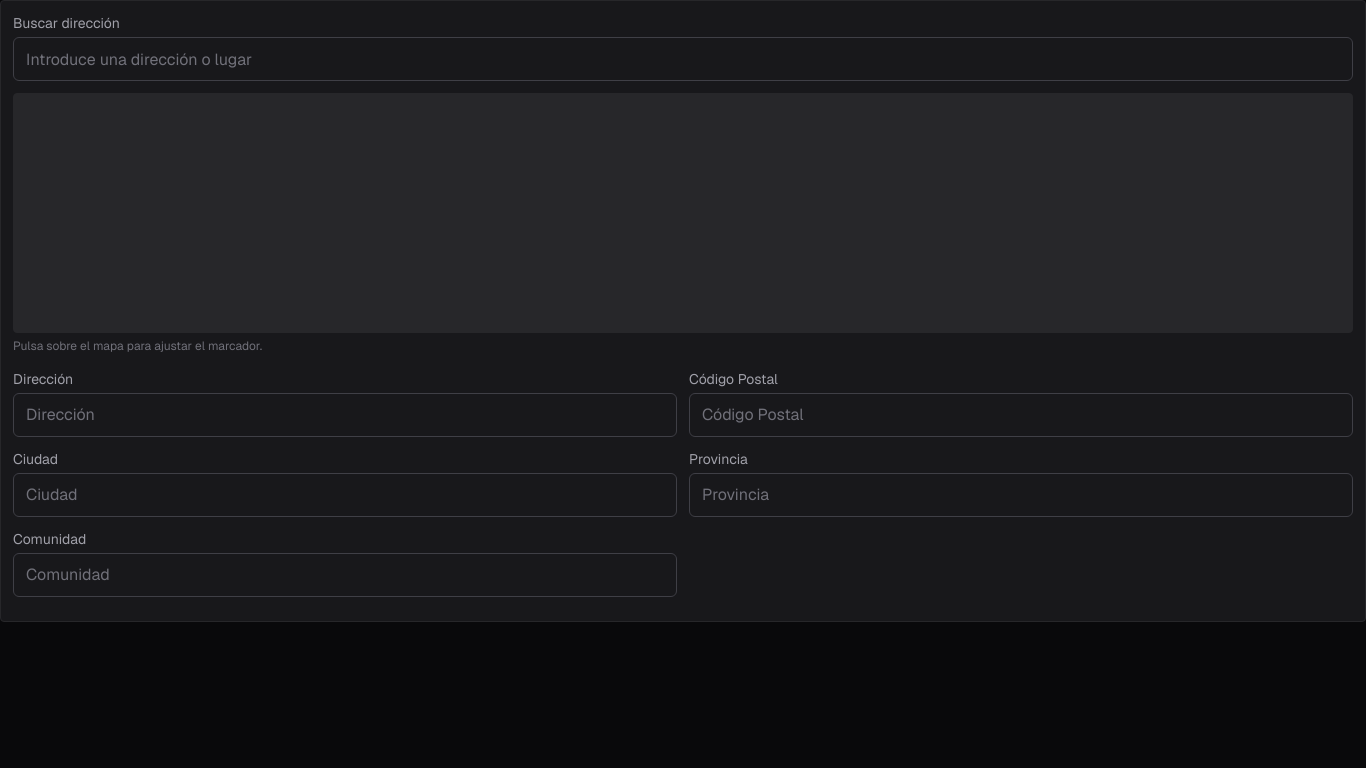
Test: LocationPicker › realiza búsquedas y actualiza los campos al seleccionar una sugerencia
Type "Mad" into the search field at (683, 59), box [13,37,1353,81]
Wait 400 ms
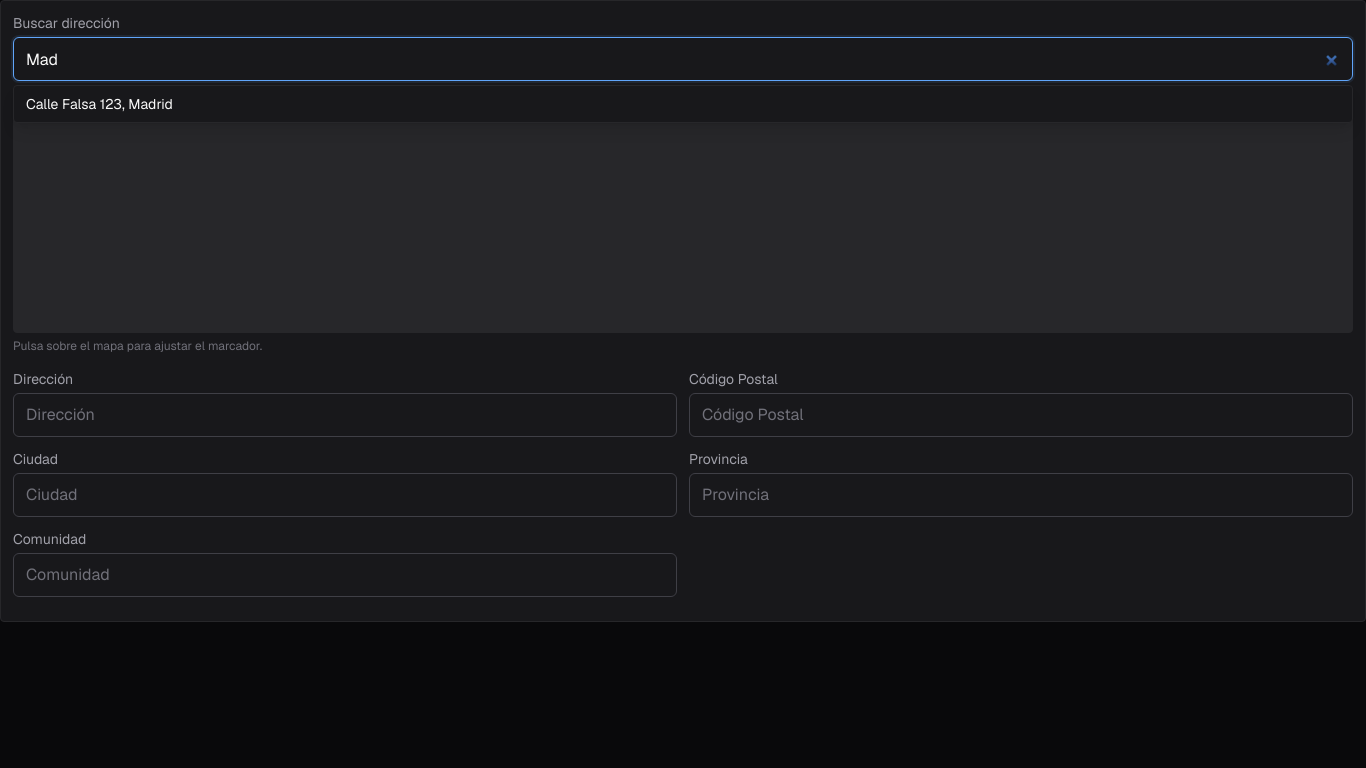
Now the list item "Calle Falsa 123, Madrid" is shown
Press the mouse on the list item "Calle Falsa 123, Madrid" at (99, 104), box [26,95,173,113]
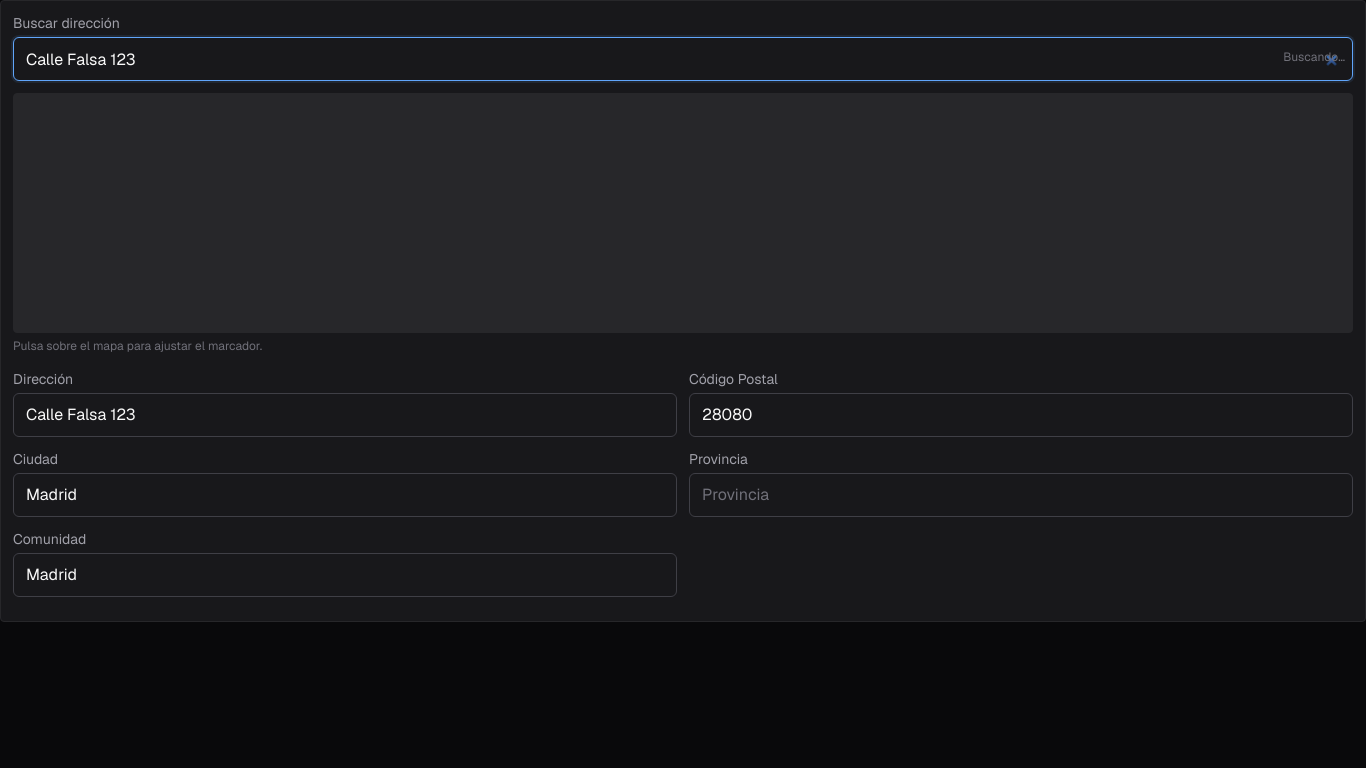
Now the field labelled "Dirección" holds "Calle Falsa 123", box [13,392,677,436]
